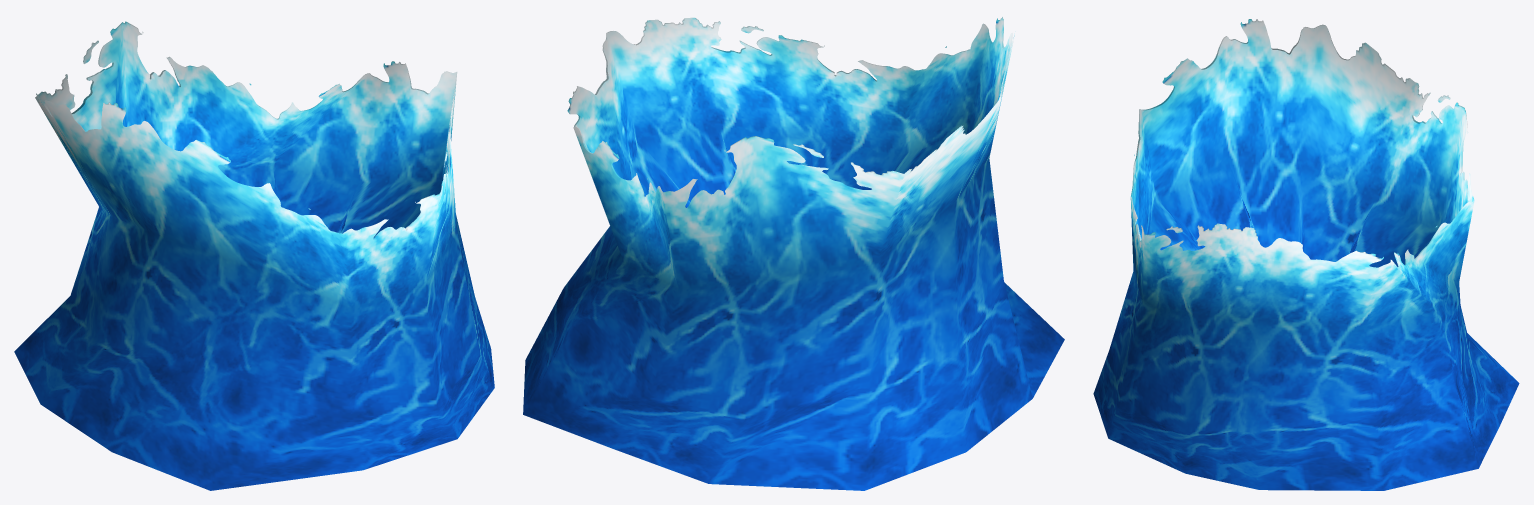
Rendered from bolang_02.FBX.
3 renders of one model, left to right at view 1: azimuth 30°, elevation 25°; view 2: azimuth 150°, elevation 25°; view 3: azimuth 270°, elevation 25°, orthographic. The views are drawn at different scales.
Visible parts, largest first — view 1: bolang_02; view 2: bolang_02; view 3: bolang_02.
Part boxes in pixels (bbox=[...]): bolang_02: bbox=[14, 21, 494, 490]; bolang_02: bbox=[523, 17, 1064, 490]; bolang_02: bbox=[1093, 19, 1519, 490].
Bounding box in the file's own units: 22.51 × 22.35 × 18.08.
Materials: 1 (1 with a texture image).
